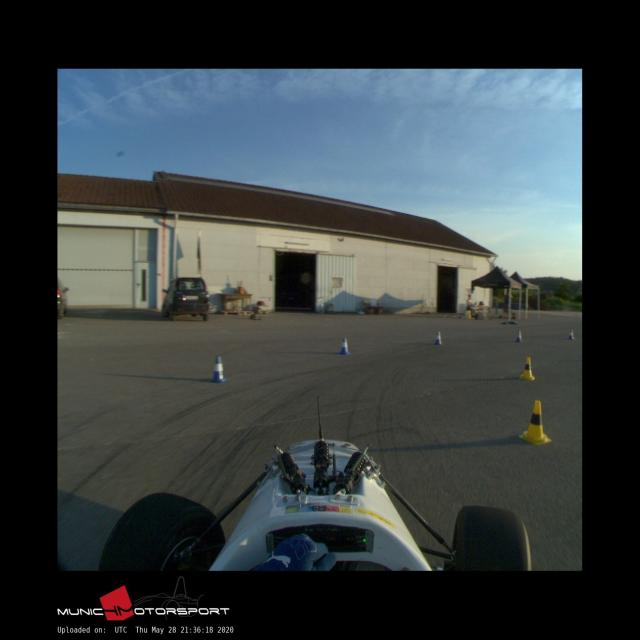blue_cone: (210, 356, 228, 383), (338, 338, 351, 354), (434, 332, 443, 344), (515, 331, 523, 342), (568, 330, 574, 340)
yellow_cone: (519, 400, 552, 446), (520, 356, 536, 381)
